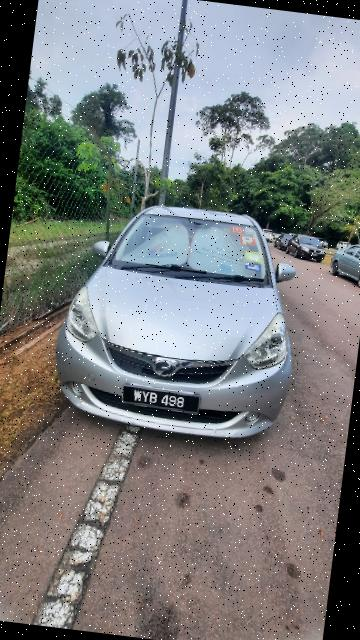License_Plate: (115, 381, 208, 419)
car: (49, 190, 316, 450)
